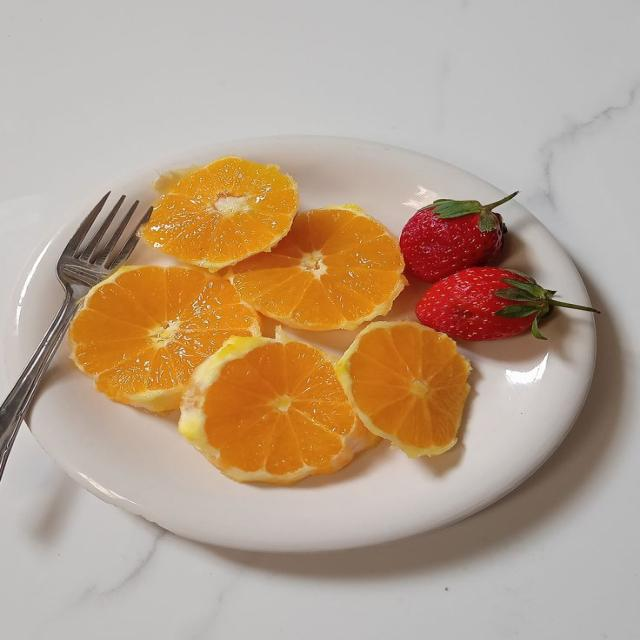orange: (180, 336, 378, 484), (70, 266, 259, 411), (227, 205, 406, 330), (140, 157, 298, 270), (337, 322, 470, 456)
